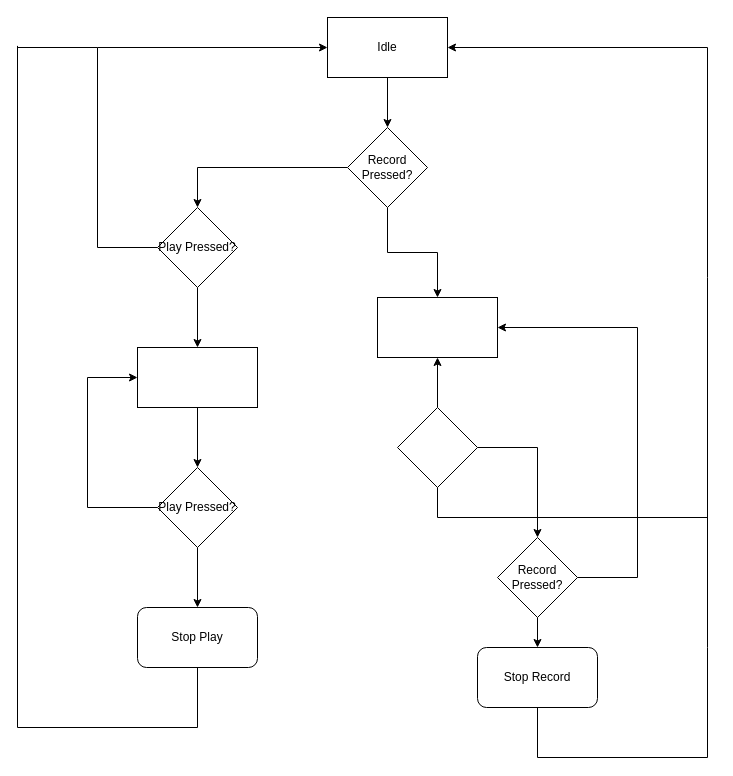
Some shapes in this 733 by 776 pixel diagram are drawn without their labels. The shapes that lost their labels are listed below. From the top down, each one's centre as x and y in pixels, then its label:
(x=437, y=327): Recording
(x=197, y=377): Play
(x=437, y=447): Stack Finished?
